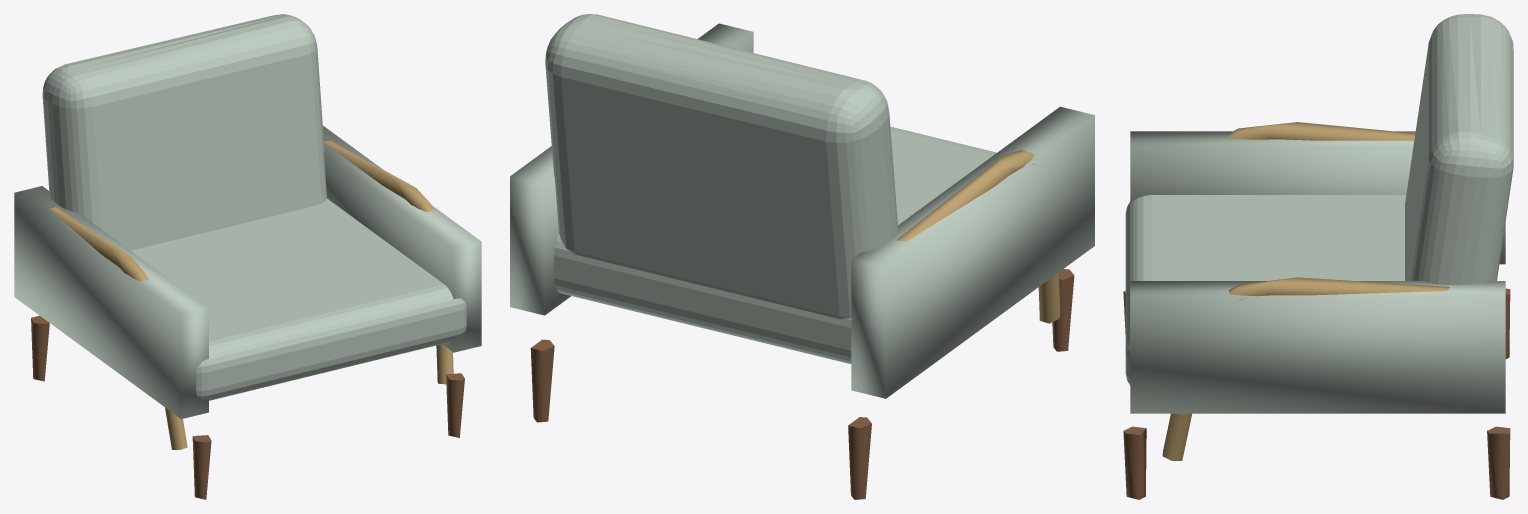
Rendered from chair-1-2.lod.glb.
The picture shows the model from 3 angles, left to right: view 1: azimuth 30°, elevation 25°; view 2: azimuth 150°, elevation 25°; view 3: azimuth 270°, elevation 25°; orthographic projection. The views are drawn at different scales.
Visible parts, largest first — view 1: tailored-cushion, part (×2); view 2: tailored-cushion, part (×2); view 3: tailored-cushion, part (×2).
Part boxes in pixels (x1=…): tailored-cushion: x1=14, y1=14, x2=481, y2=418; part (×2): x1=31, y1=141, x2=464, y2=499; tailored-cushion: x1=510, y1=14, x2=1094, y2=398; part (×2): x1=530, y1=150, x2=1074, y2=499; tailored-cushion: x1=1125, y1=14, x2=1513, y2=413; part (×2): x1=1123, y1=122, x2=1510, y2=499.
Size of the model in its own units: 1 by 1 by 1.
